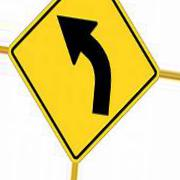left: (10, 1, 160, 162)
